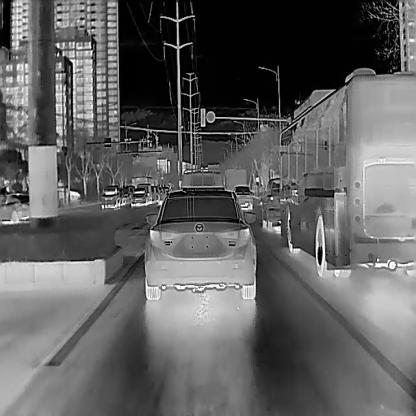bus: (270, 67, 415, 277), (130, 176, 153, 188)
car: (144, 191, 256, 299), (260, 177, 280, 231), (0, 192, 30, 224), (233, 184, 254, 210), (100, 184, 120, 210), (130, 187, 147, 206), (118, 185, 130, 205)
truck: (180, 168, 224, 191), (224, 167, 246, 191), (137, 184, 152, 202)
